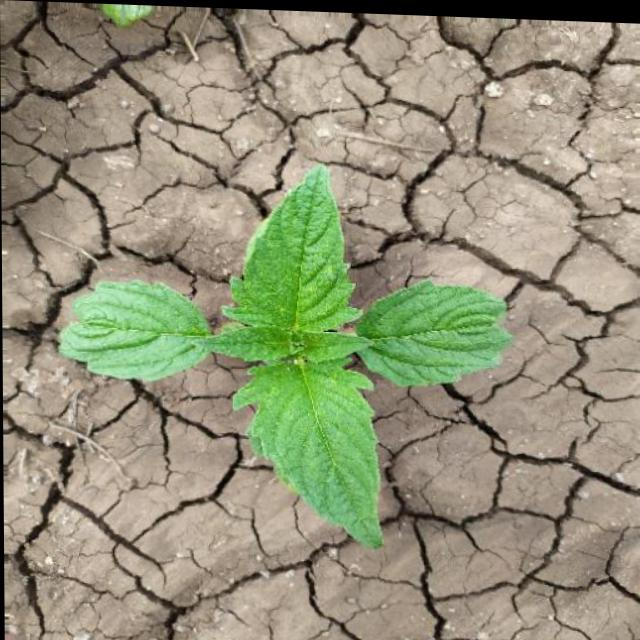crop: (56, 160, 510, 558)
